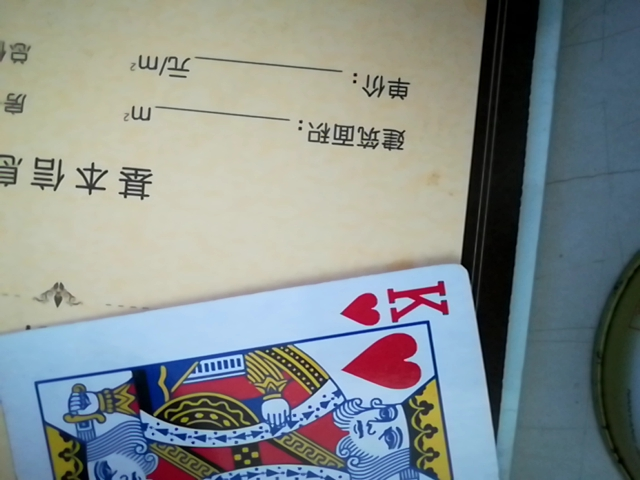hx k: (0, 262, 523, 480)
